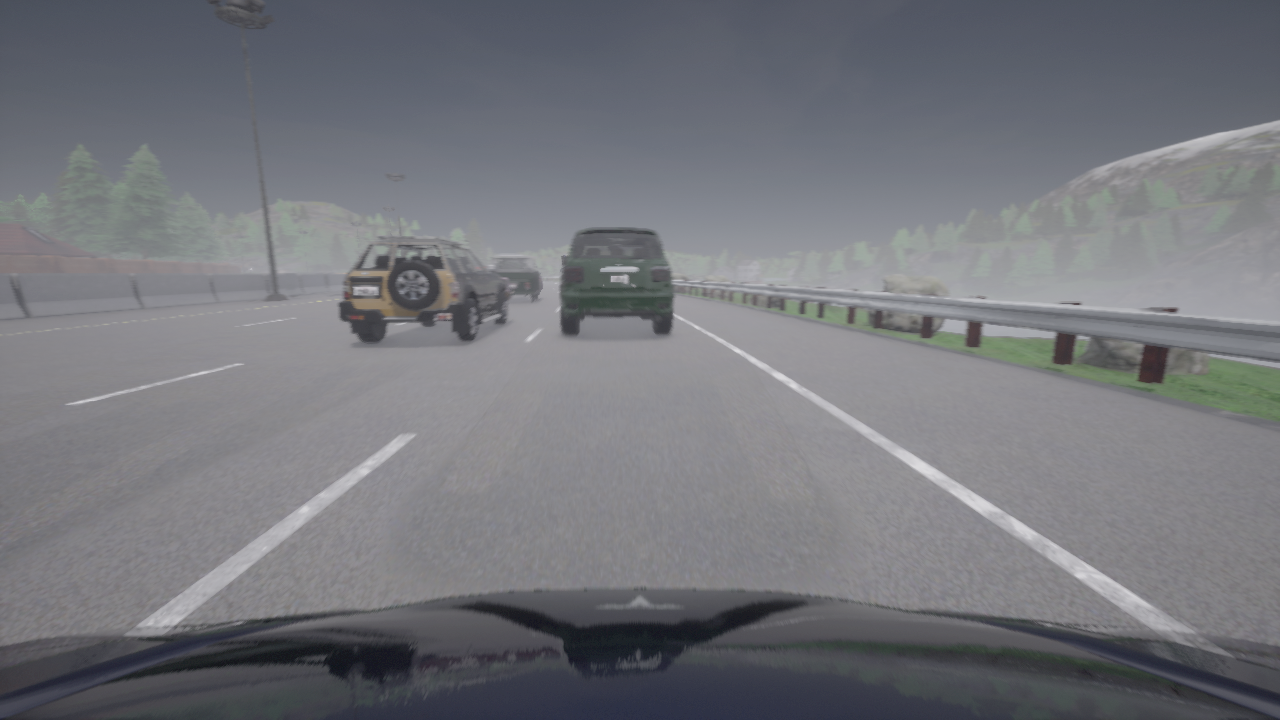cyclist: (0, 588, 1279, 719), (339, 236, 510, 342), (560, 228, 673, 334), (490, 254, 541, 302), (559, 254, 568, 272), (540, 276, 541, 288), (484, 266, 485, 268)
